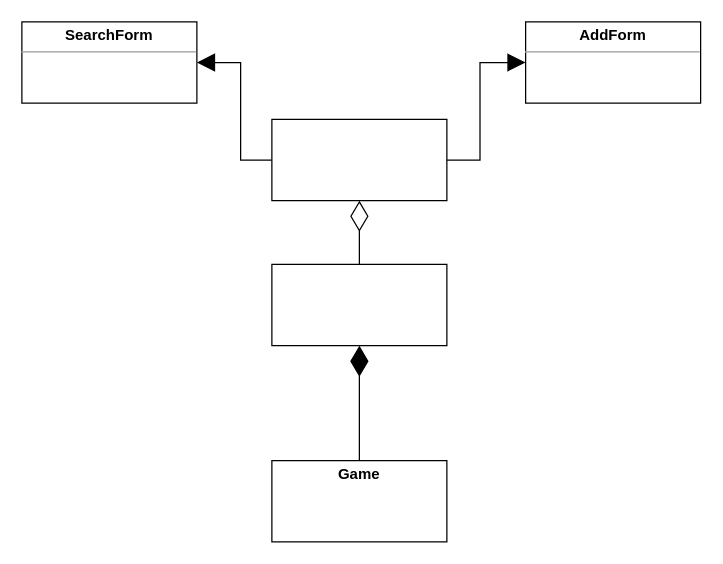
This 723x564 diagram has some shape labels left out. The centre of each missing label's shape, as x and y in pixels:
"GamerData" goes at (x=359, y=304).
"MainForm" goes at (x=359, y=159).
